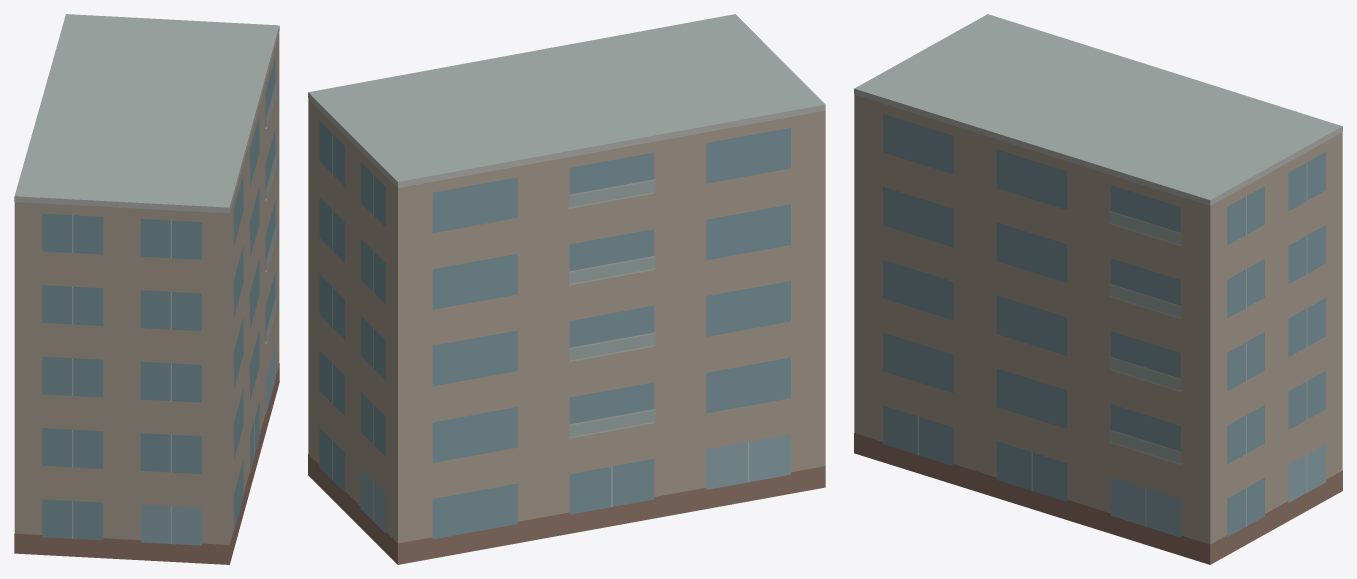
The model's file is survey-upis-32631565.glb.
The picture shows the model from 3 angles, left to right: view 1: azimuth 30°, elevation 25°; view 2: azimuth 150°, elevation 25°; view 3: azimuth 270°, elevation 25°; orthographic projection. The views are drawn at different scales.
Visible parts, largest first — view 1: survey-upis-32631565.tmp; view 2: survey-upis-32631565.tmp; view 3: survey-upis-32631565.tmp.
Boxes of the visible parts, box(x1,y1,x2,y2) form: survey-upis-32631565.tmp: box(14, 14, 279, 564); survey-upis-32631565.tmp: box(308, 14, 825, 564); survey-upis-32631565.tmp: box(854, 14, 1342, 564).
Size of the model in its own units: 16.71 by 15.25 by 18.53.
